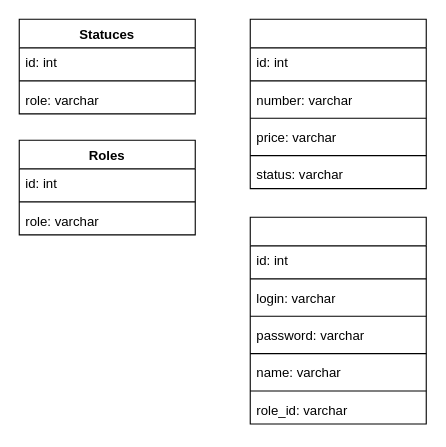
Image size: 446x447. Some labels were removed from this diagram. The box of each missing label's shape, as (x1, y1, x2, y2) in pixels:
Booking: (249, 18, 426, 189)
Users: (249, 216, 426, 424)
